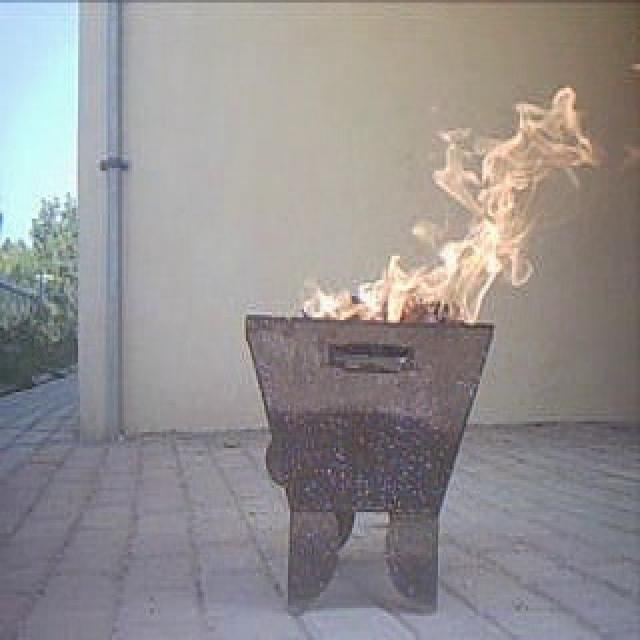Fire: (438, 108, 572, 322), (326, 257, 432, 312)
